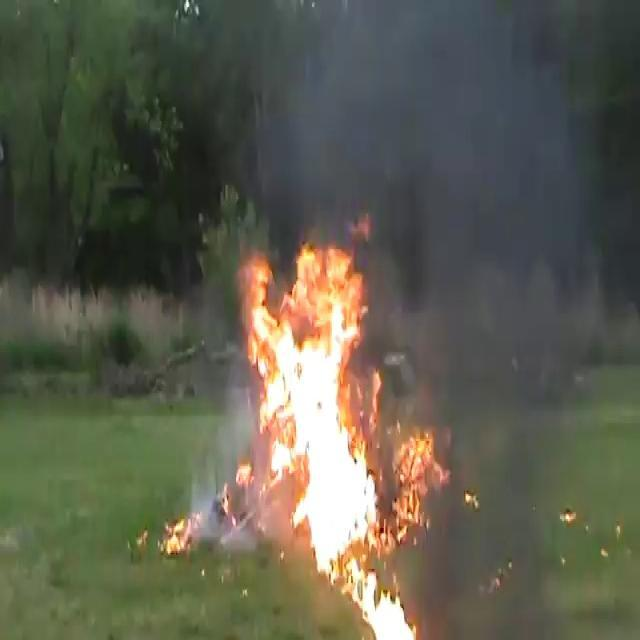Fire: (220, 175, 434, 618), (162, 510, 194, 558)
Smoke: (316, 1, 638, 426)
